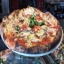basil: (27, 14, 47, 30), (14, 25, 22, 33)
pizza: (3, 9, 51, 54)
